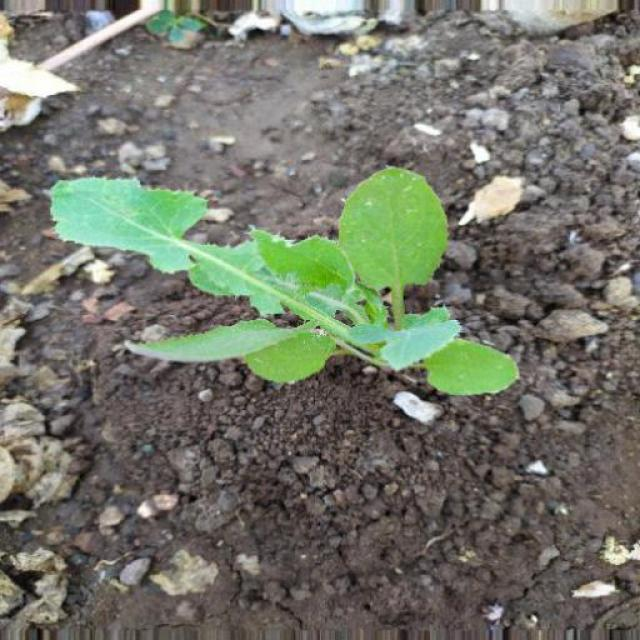crop: (44, 146, 525, 420)
